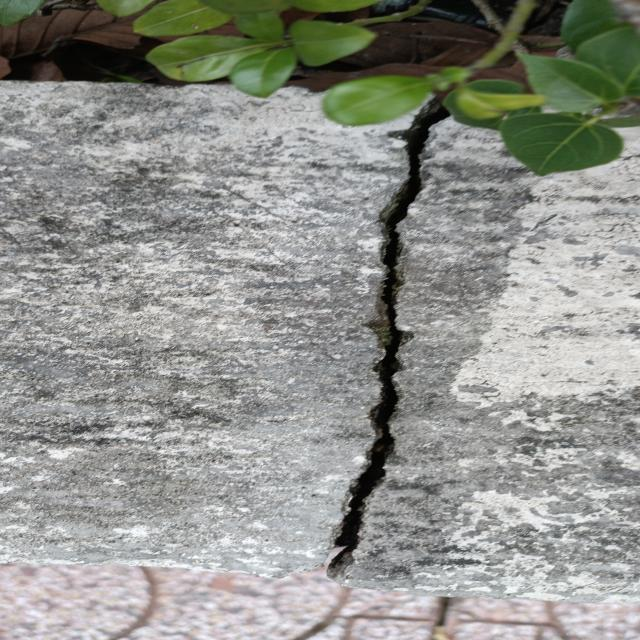vertical cracks: (327, 96, 448, 576)
